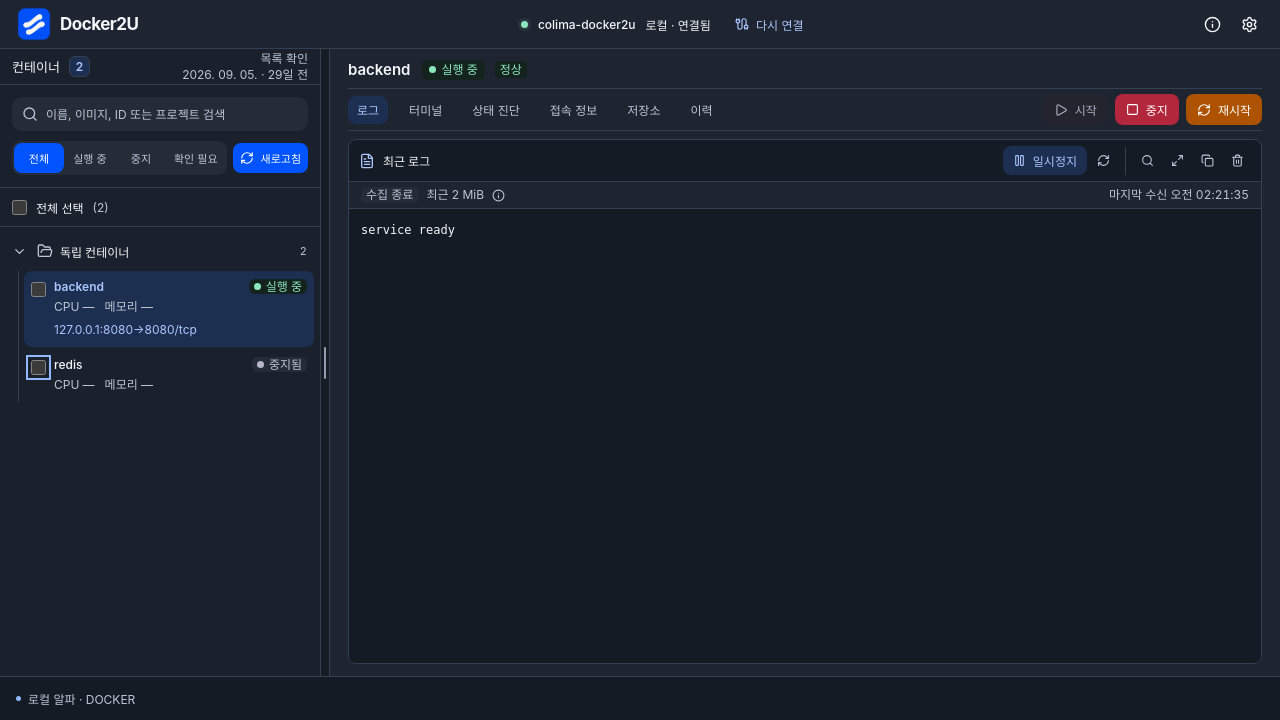
Test: bulk selection and recovery › keeps checkbox selection separate from detail selection and supports Space
The width and height of the screenshot is (1280, 720).
expect the list item with aria-label "backend 상세" is shown: met, box x1=24 y1=271 x2=314 y2=347
expect the button "새로고침" is enabled: met, box x1=232 y1=143 x2=308 y2=173
Type keys " "
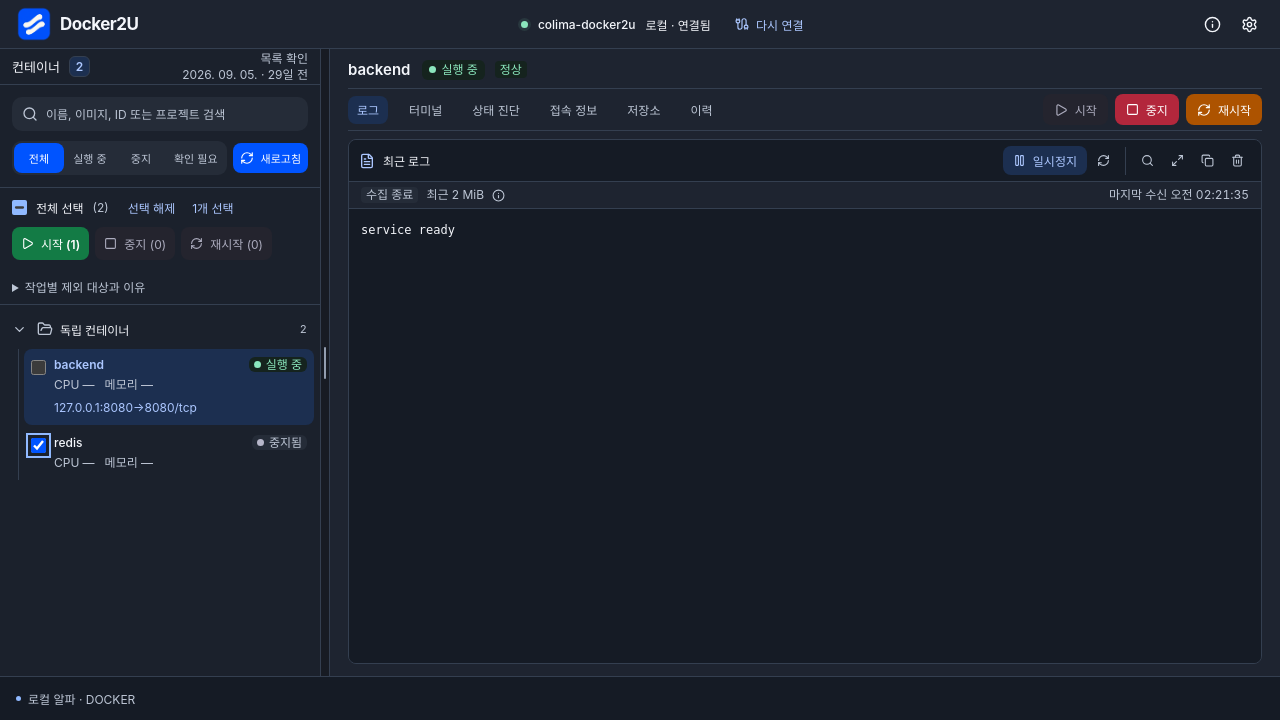
expect the checkbox named "redis 작업 대상으로 선택" is checked: met, box x1=31 y1=438 x2=46 y2=453
expect the button "시작 (1)" is enabled: met, box x1=12 y1=227 x2=89 y2=260
expect the button "중지 (0)" is disabled: met, box x1=95 y1=227 x2=175 y2=260
Click the list item with aria-label "redis 상세": {"x": 279, "y": 442} x1=24 y1=427 x2=314 y2=480
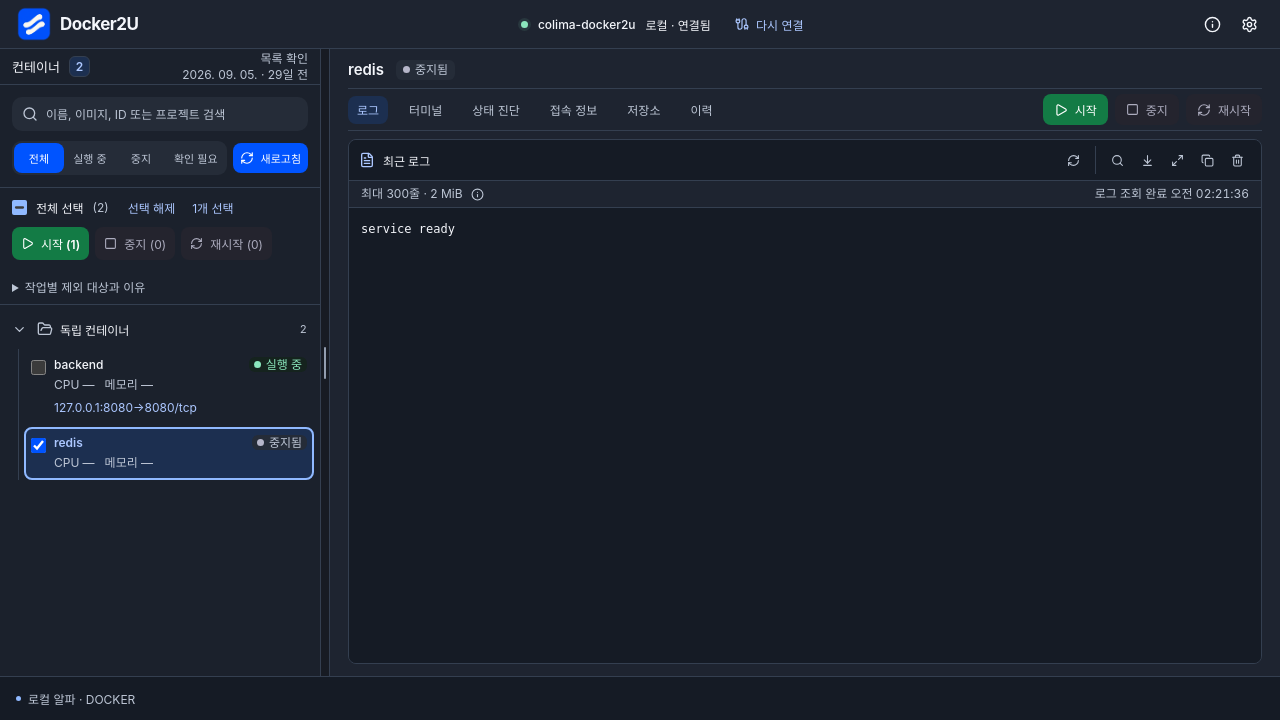
expect the list item with aria-label "redis 상세" is selected: met, box x1=24 y1=427 x2=314 y2=480
expect the checkbox named "redis 작업 대상으로 선택" is checked: met, box x1=31 y1=438 x2=46 y2=453
Click the button "선택 해제": {"x": 151, "y": 207} x1=127 y1=194 x2=176 y2=220
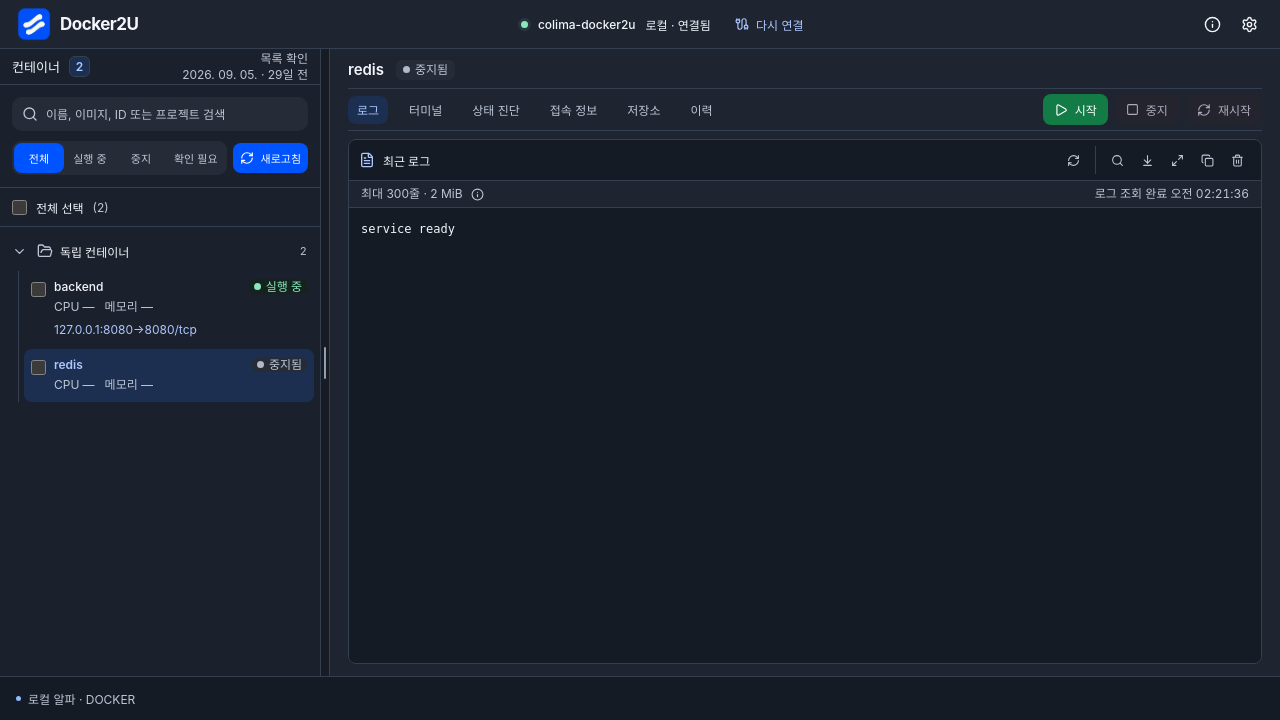
expect the checkbox named "redis 작업 대상으로 선택" is not checked: met, box x1=31 y1=360 x2=46 y2=375
expect the button "시작 (" is gone: met
